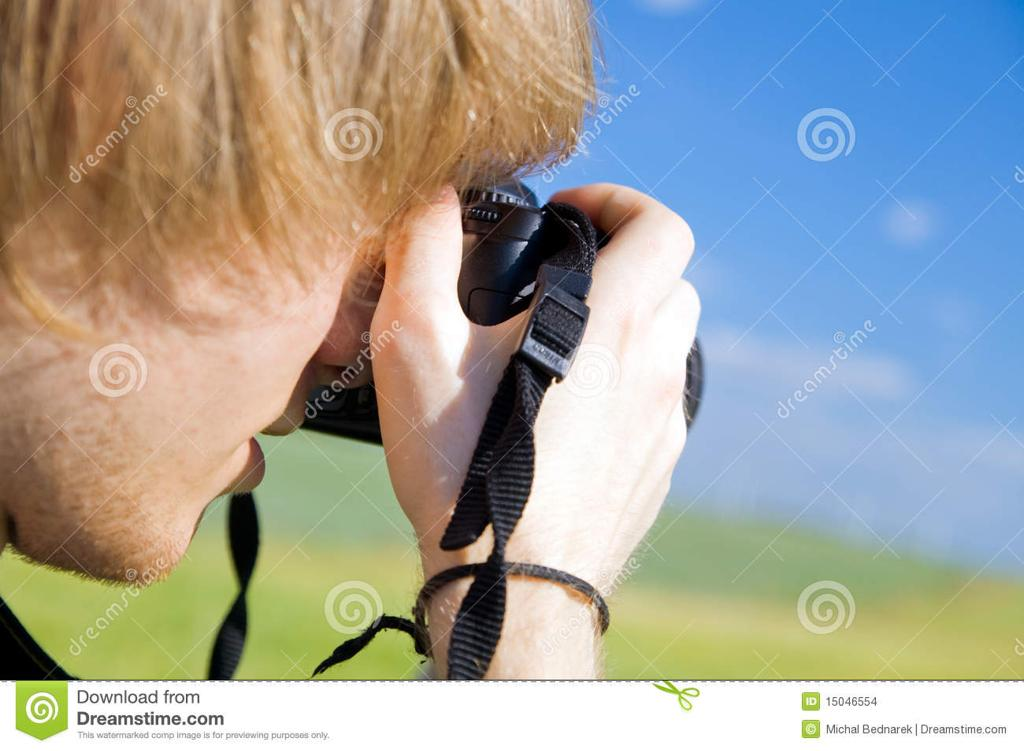face: (32, 12, 512, 568)
